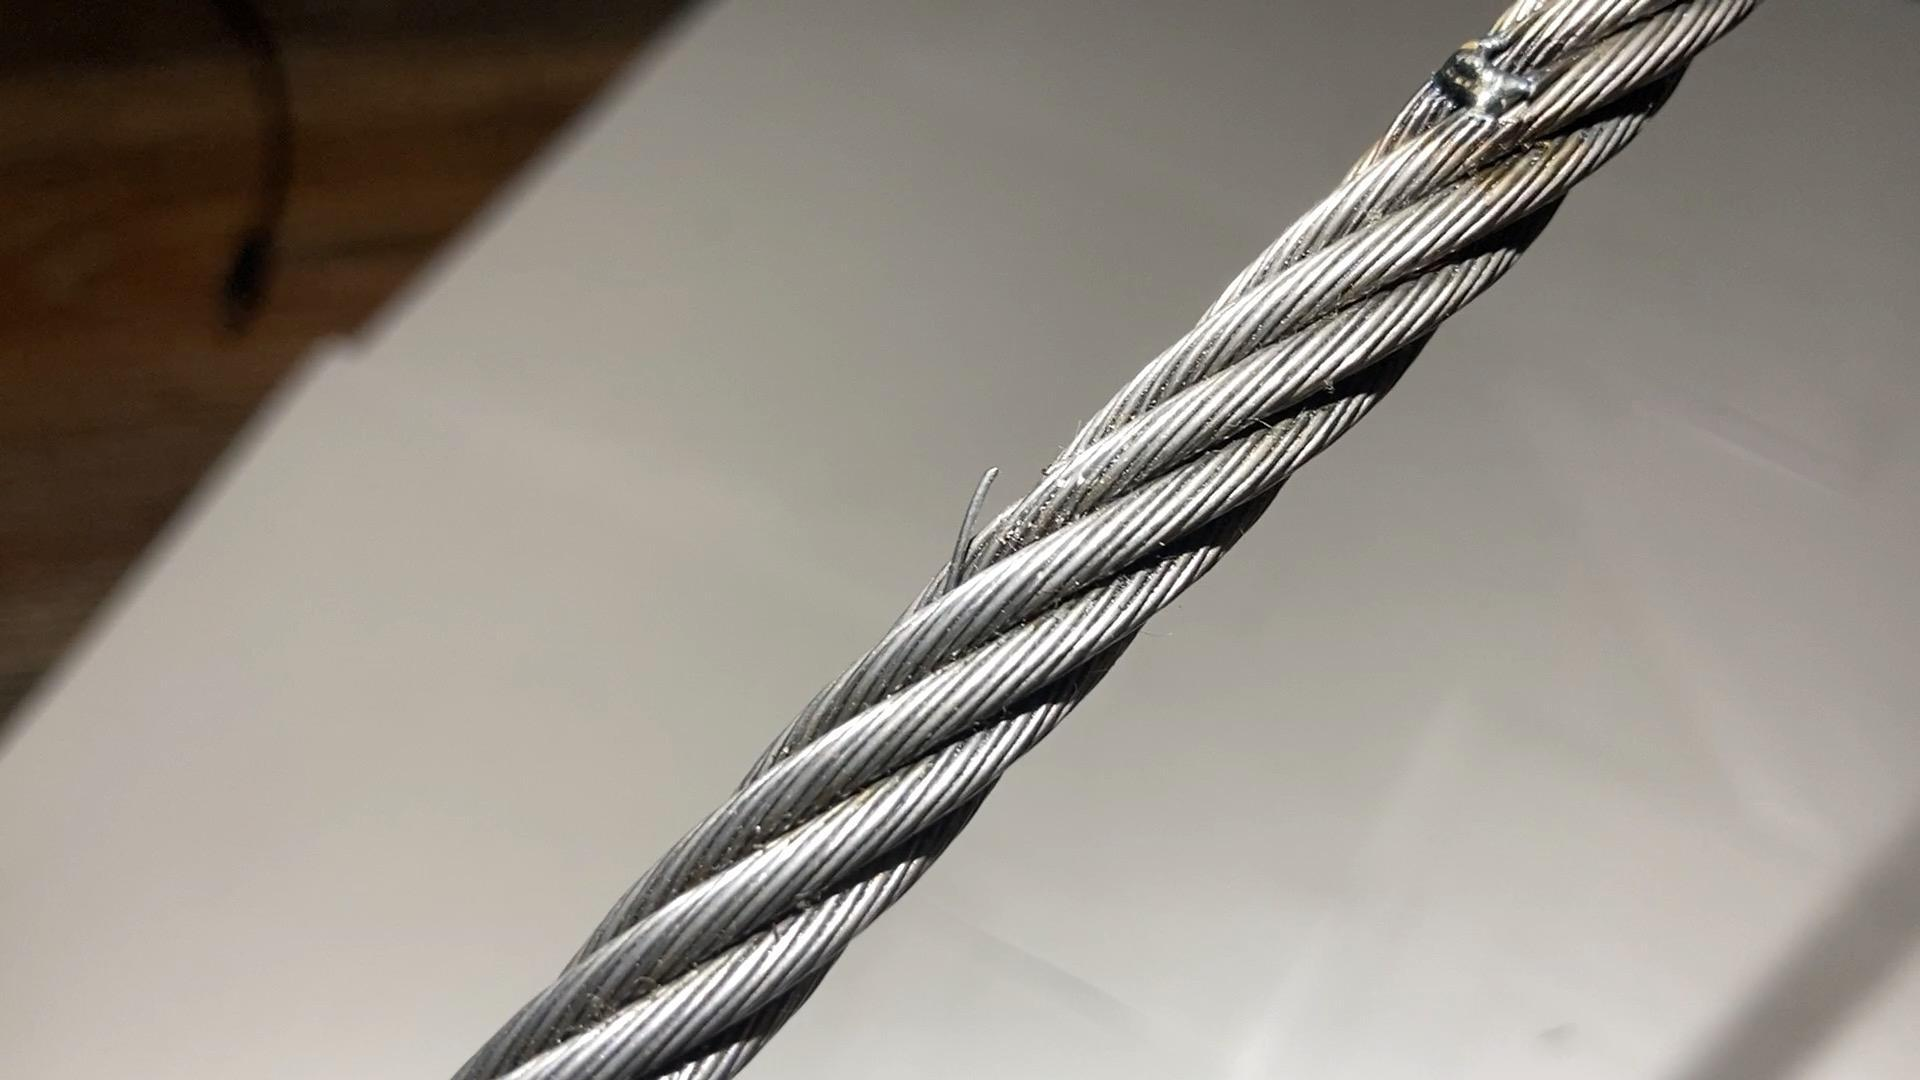break: (924, 454, 1027, 609)
